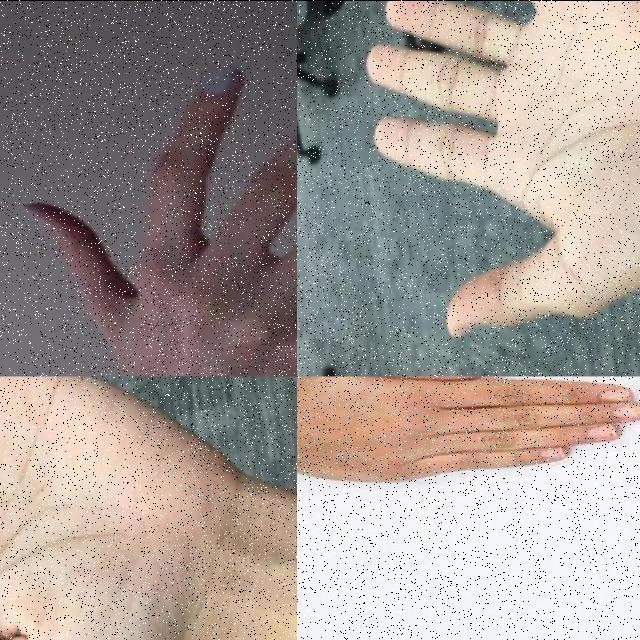hand: (363, 0, 640, 339), (17, 65, 297, 375), (0, 376, 242, 640), (297, 376, 640, 484)
